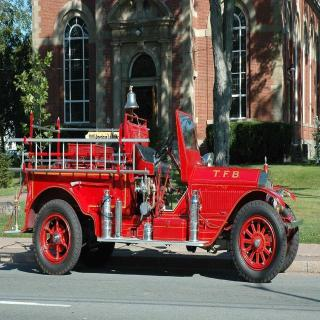Fire_truck: (5, 89, 304, 284)
